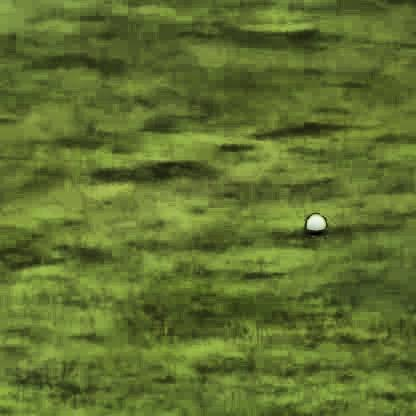golfball: (302, 212, 326, 234)
